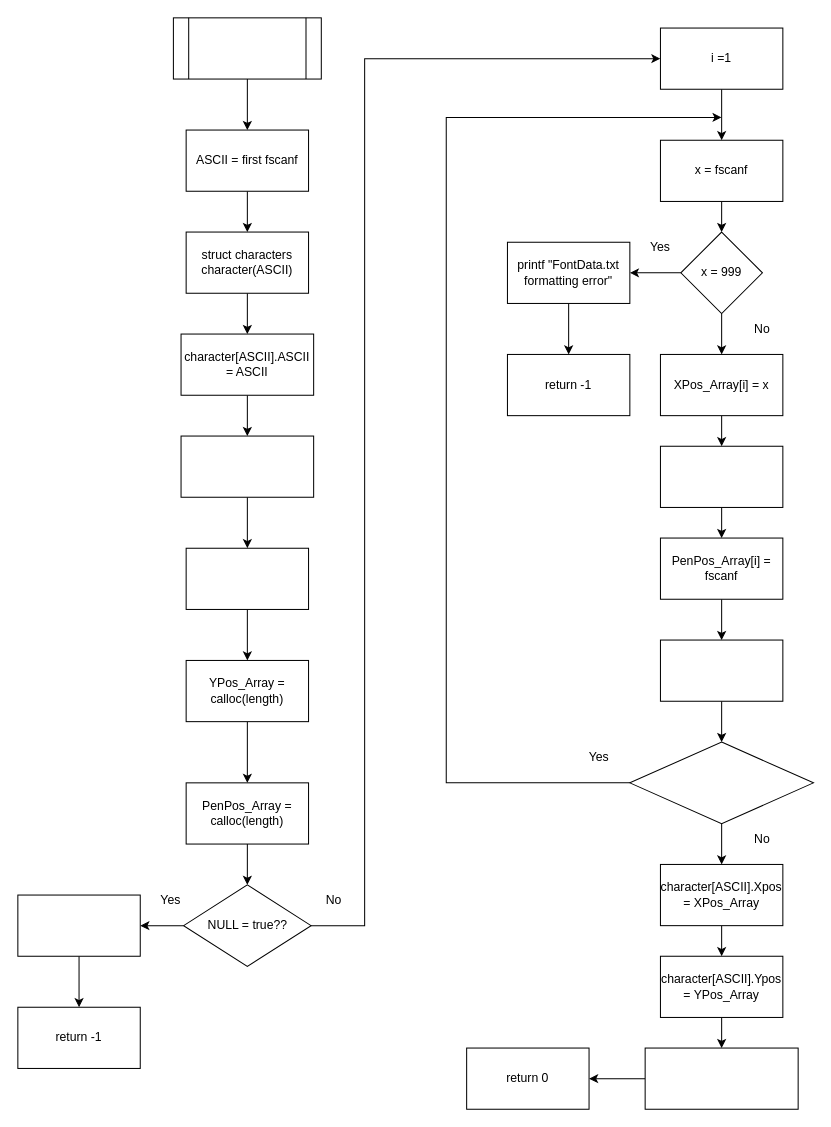
Image size: 831x1127. Some labels were removed from this diagram. The shapes that lost their labels are listed below. From the top down, each one's centre as x and y in pixels, then its label:
(x=246, y=48): FontDataToStruct
(x=247, y=466): character[ASCII].length = second fscanf
(x=721, y=476): YPos_Array[i] = fscanf
(x=247, y=578): XPos_Array = calloc(length)
(x=721, y=670): i =i++
(x=721, y=782): i<=character[ASCII].length
(x=78, y=925): printf "memory could not be allocated - terminating"
(x=721, y=1078): character[ASCII].Penpos = PenPos_Array
